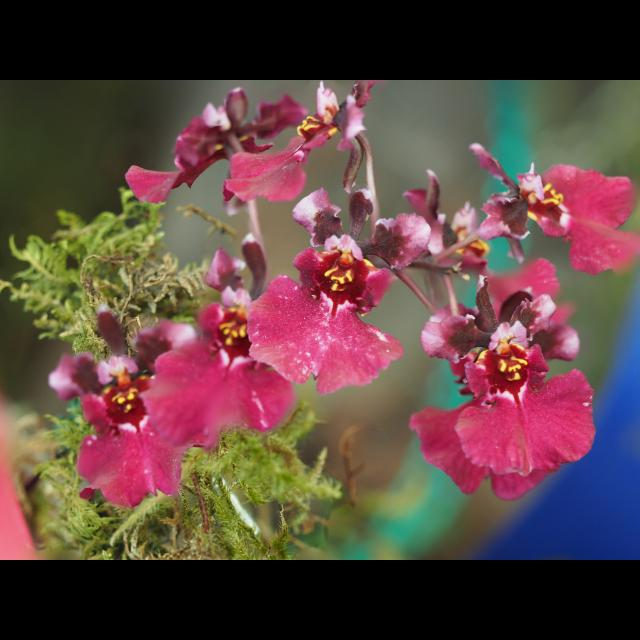Flower: (49, 80, 639, 512)
